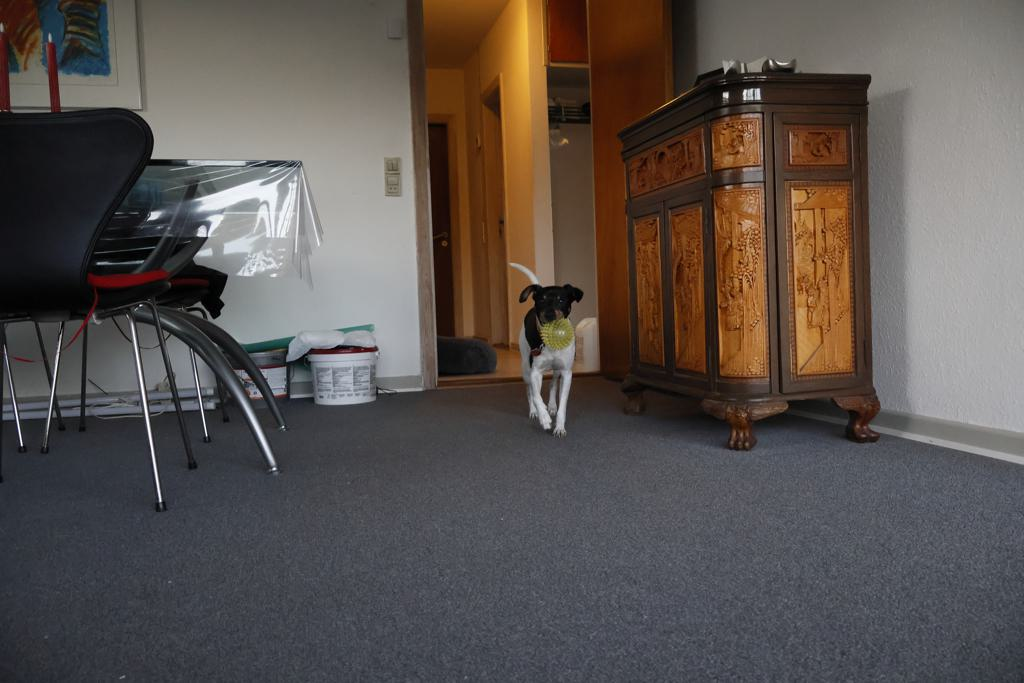Dog: (488, 245, 592, 444)
